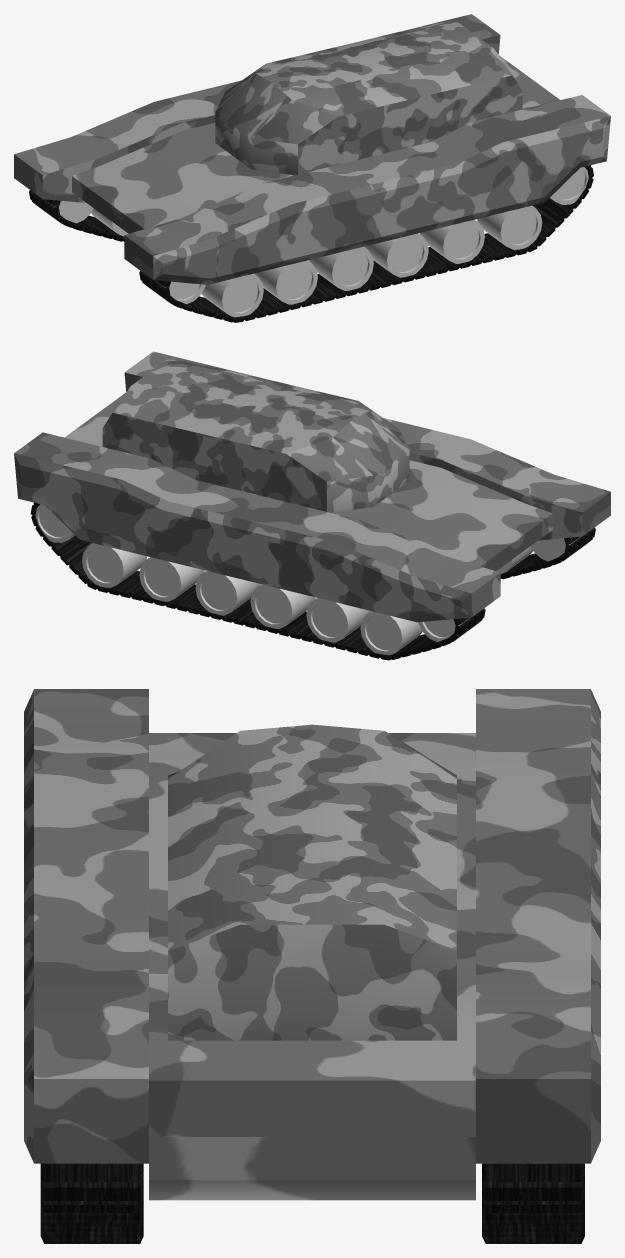
Rendered from AresTankBase.fbx.
3 renders of one model, top to bottom at view 1: azimuth 30°, elevation 25°; view 2: azimuth 150°, elevation 25°; view 3: azimuth 270°, elevation 25°, orthographic. The views are drawn at different scales.
Parts seen in each view (by area): view 1: pCube1, pCube4, pCube2, pCylinder7, pCylinder6, pCylinder4, pCylinder5, pCylinder2, pCylinder3, pCube3, pCylinder8, pCylinder1 (+1 smaller); view 2: pCube1, pCube4, pCube3, pCylinder15, pCylinder14, pCylinder12, pCylinder13, pCylinder10, pCylinder11, pCube2, pCylinder16, pCylinder9 (+1 smaller); view 3: pCube1, pCube4, pCube2, pCube3.
Part boxes in pixels (x1,y1,x2,y2): pCube1: (14,14,610,284); pCube4: (215,22,522,175); pCube2: (139,165,593,322); pCylinder7: (477,205,542,249); pCylinder6: (419,219,484,263); pCylinder4: (308,247,373,290); pCylinder5: (364,233,428,277); pCylinder2: (201,273,263,317); pCylinder3: (254,260,317,304); pCube3: (29,190,124,241); pCylinder8: (550,167,588,204); pCylinder1: (154,280,205,304); pCube1: (14,351,610,622); pCube4: (102,359,409,512); pCube3: (30,502,485,660); pCylinder15: (82,543,147,587); pCylinder14: (139,557,204,601); pCylinder12: (250,584,315,628); pCylinder13: (195,571,260,615); pCylinder10: (360,611,422,655); pCylinder11: (306,598,370,642); pCube2: (500,527,595,579); pCylinder16: (35,504,74,542); pCylinder9: (418,618,469,642); pCube1: (24,689,600,1200); pCube4: (168,724,456,1040); pCube2: (40,1163,143,1243); pCube3: (482,1163,584,1243).
Bounding box in the file's own units: 339 × 117 × 185.
